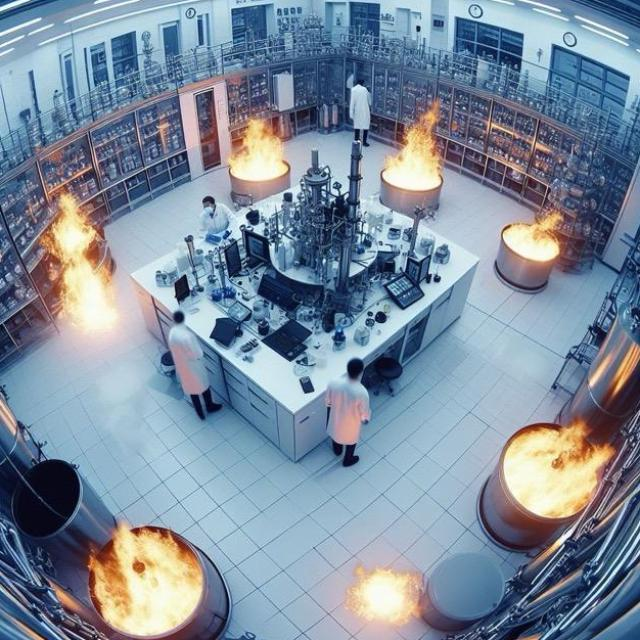smoke: (90, 518, 209, 635), (500, 404, 617, 520), (42, 194, 110, 340), (382, 90, 445, 193), (342, 564, 438, 627), (493, 210, 572, 264), (226, 110, 286, 180)
